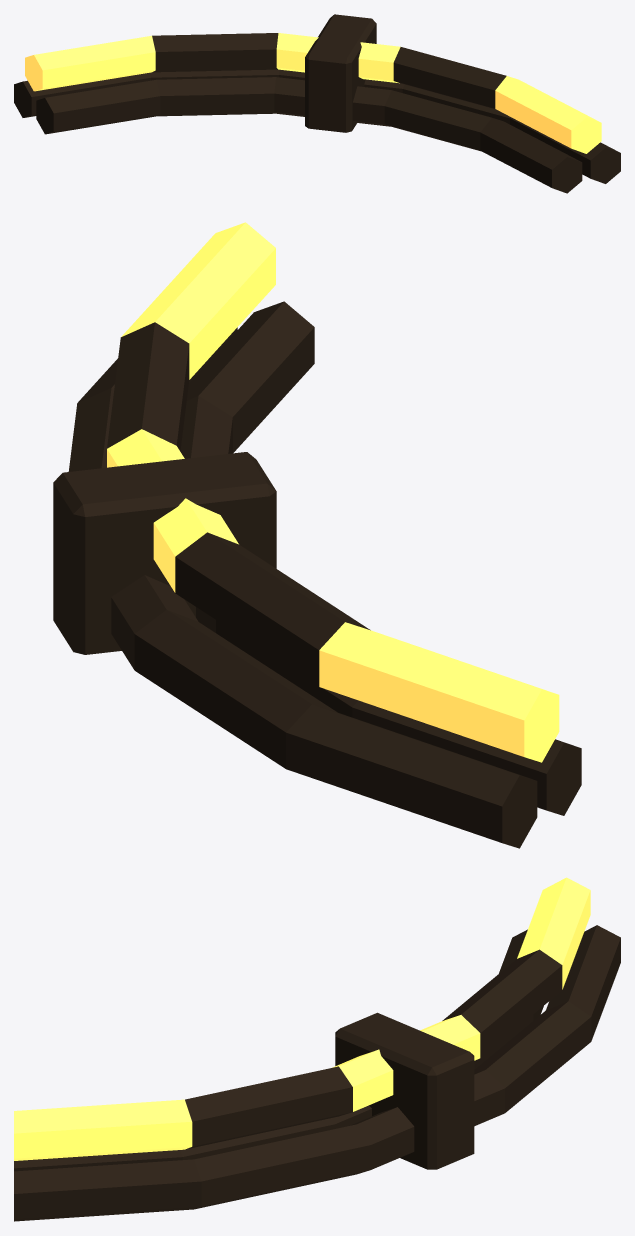
The model's file is cable_curve_hard.glb.
3 views of the same model, one above another, from view 1: azimuth 30°, elevation 25°; view 2: azimuth 150°, elevation 25°; view 3: azimuth 270°, elevation 25° (orthographic). The views are drawn at different scales.
Visible parts, largest first — view 1: Mesh; view 2: Mesh; view 3: Mesh.
Boxes of the visible parts, x1,y1,x2,y2 form: Mesh: [14, 14, 620, 193]; Mesh: [53, 222, 581, 848]; Mesh: [14, 877, 620, 1221].
Bounding box in the file's own units: 1.1 × 0.2 × 1.1.
